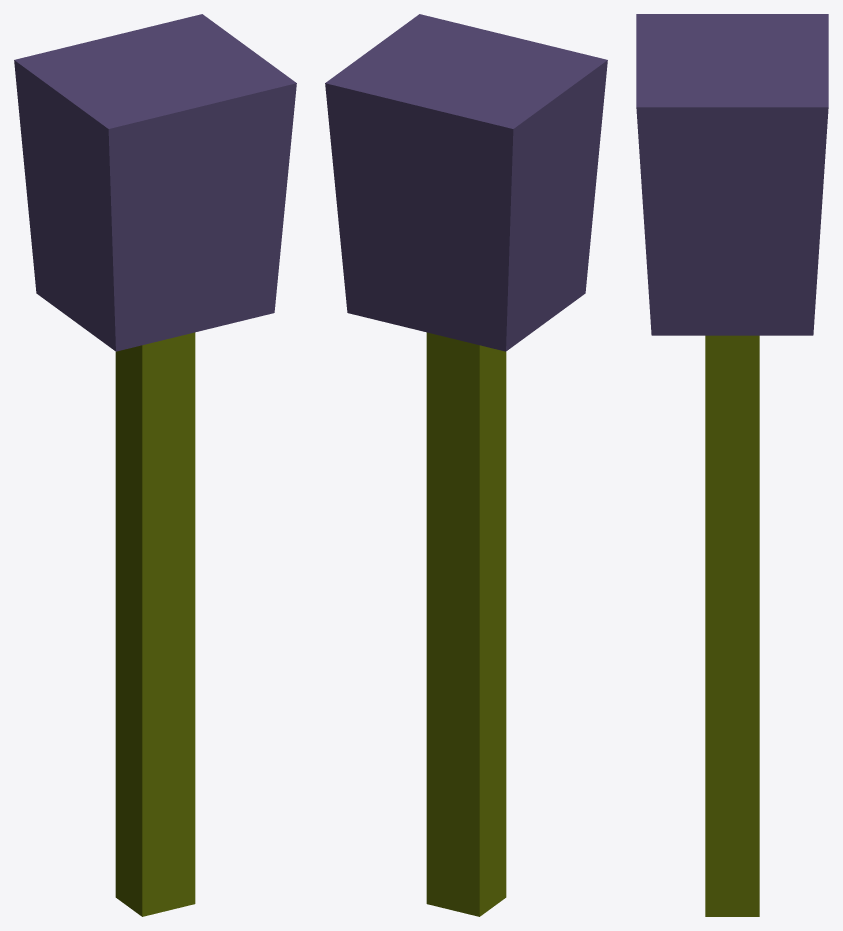
The model's file is CityFlower_04.fbx.
3 views of the same model, side by side, from view 1: azimuth 30°, elevation 25°; view 2: azimuth 150°, elevation 25°; view 3: azimuth 270°, elevation 25° (orthographic).
Parts seen in each view (by area): view 1: CityFlower_04; view 2: CityFlower_04; view 3: CityFlower_04.
Boxes of the visible parts, left/top/right/bottom form: CityFlower_04: left=14, top=14, right=296, bottom=916; CityFlower_04: left=325, top=14, right=607, bottom=916; CityFlower_04: left=636, top=14, right=828, bottom=916.
Size of the model in its own units: 0.0199 by 0.0838 by 0.0173.
